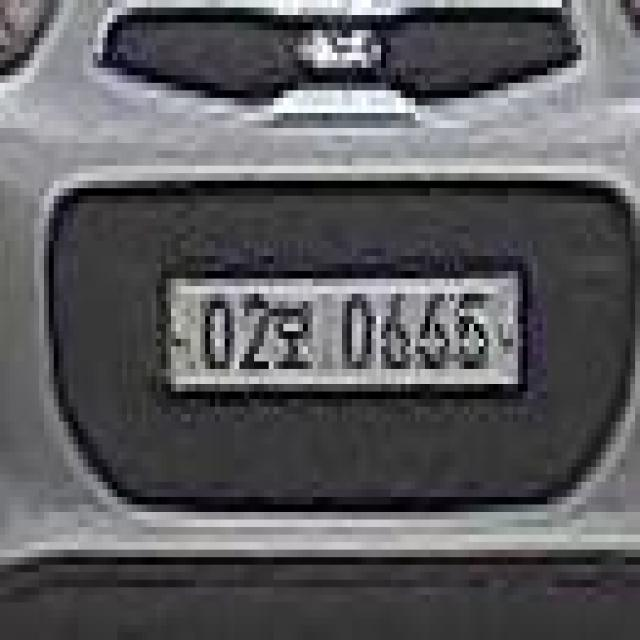illegal_plate: (159, 259, 533, 411)
